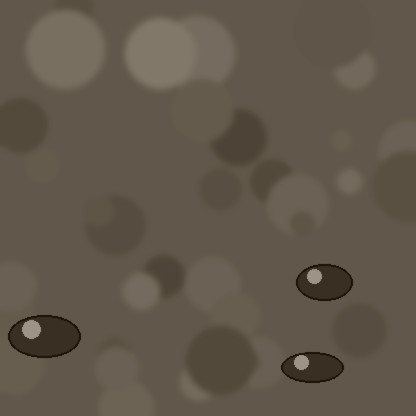gota: (8, 317, 80, 361), (296, 265, 352, 303), (281, 353, 343, 385)
